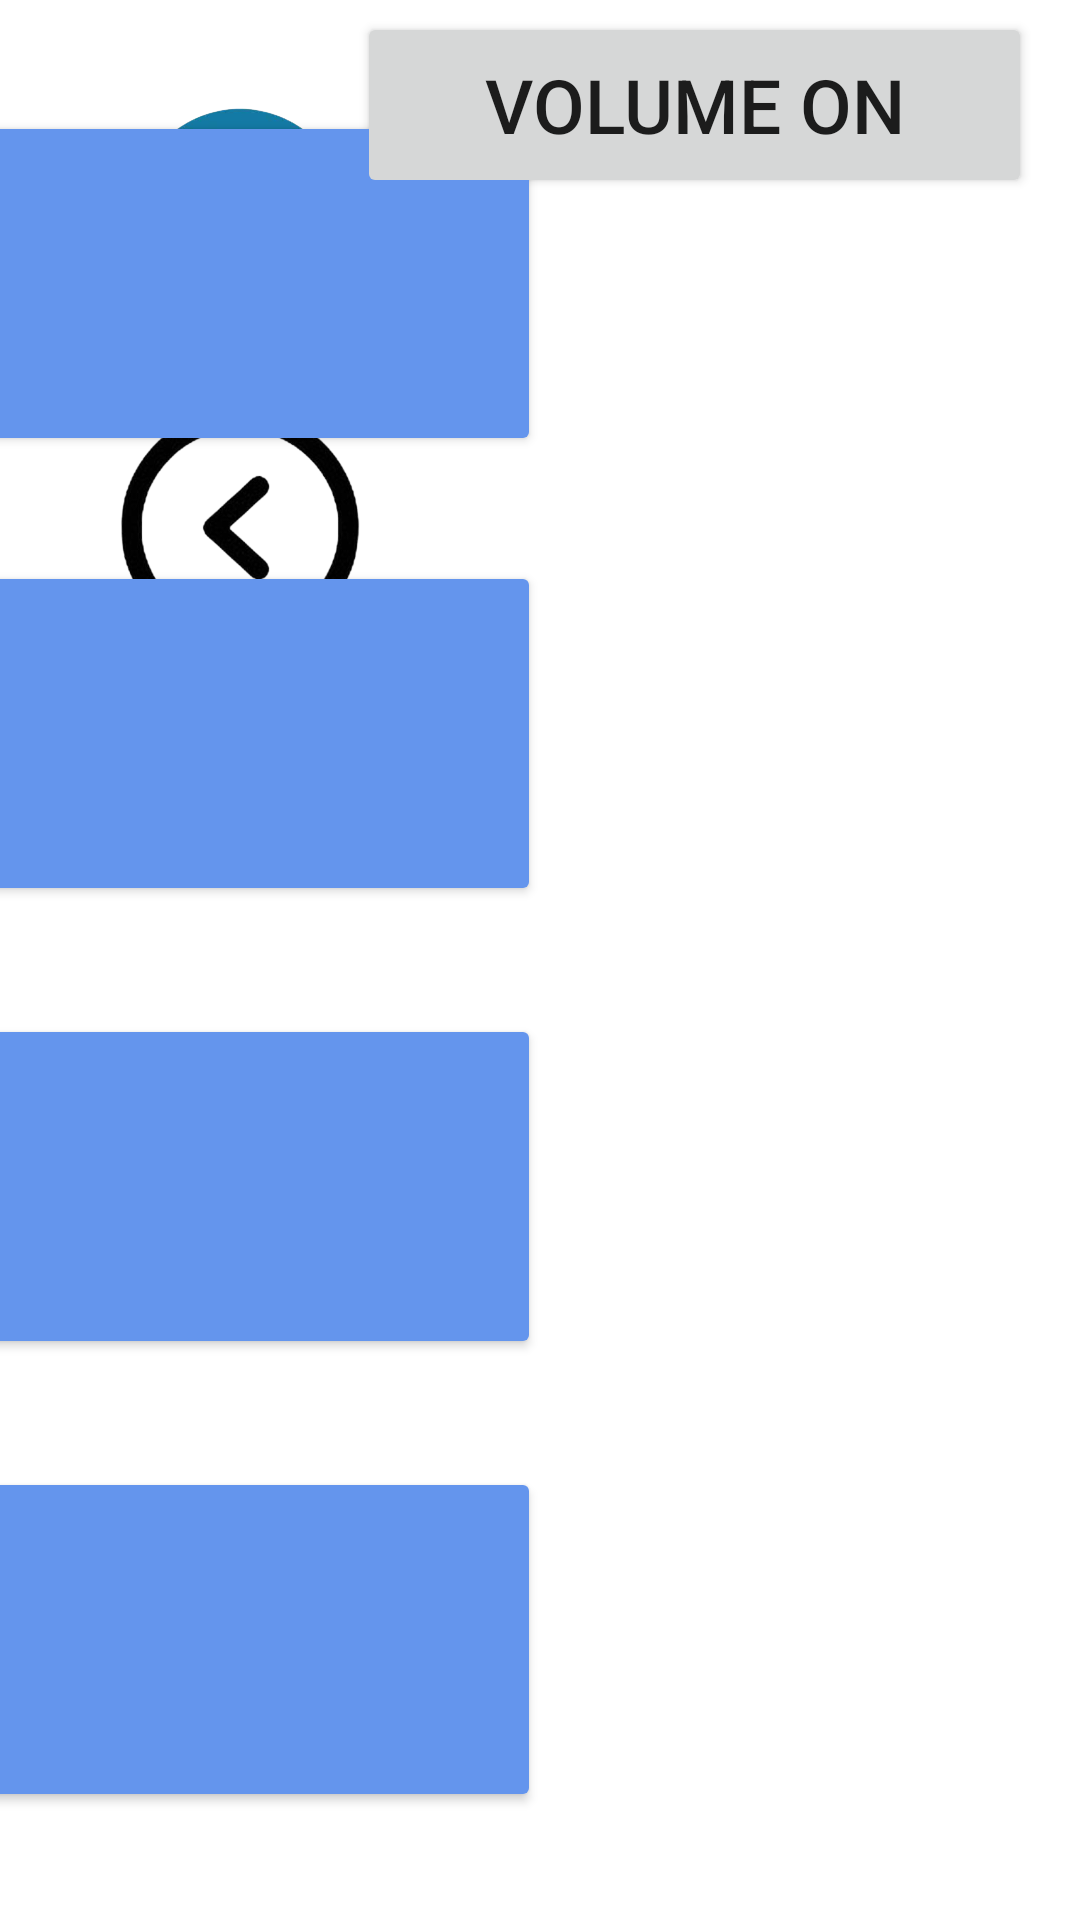

Screen size 1080px×1920px. Icon name, then its box in pixels as (x1, y1, x2, y2):
indietro: (120, 438, 360, 579)
